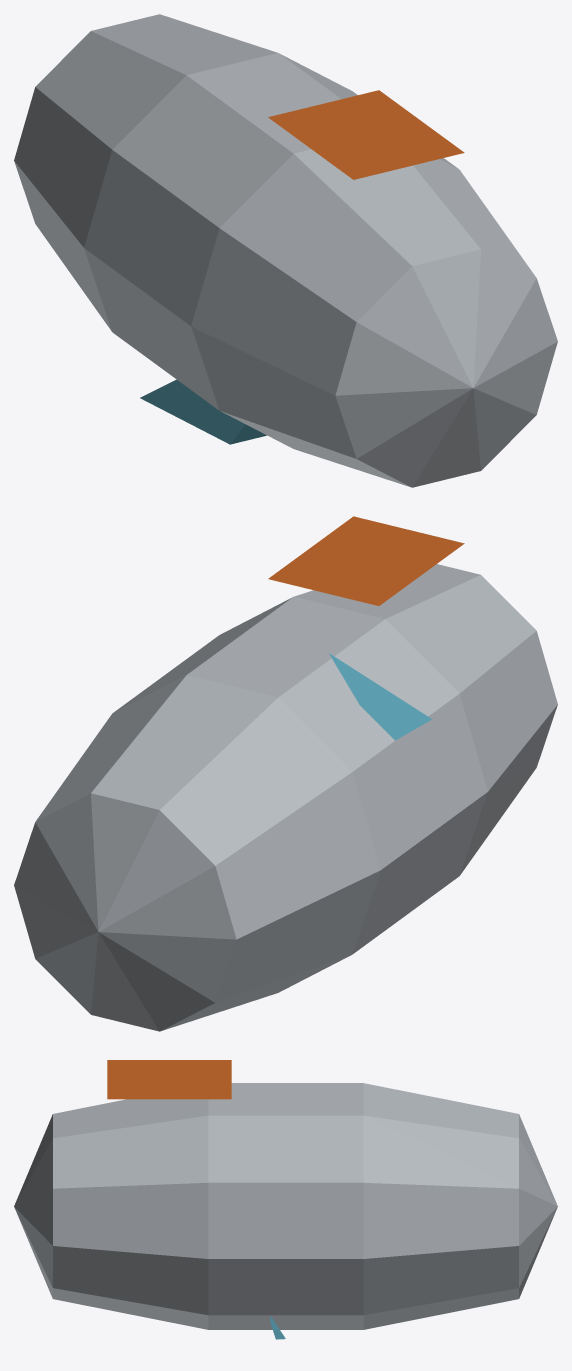
The model's file is mod-augment-capsule.lod.glb.
3 renders of one model, top to bottom at view 1: azimuth 30°, elevation 25°; view 2: azimuth 150°, elevation 25°; view 3: azimuth 270°, elevation 25°, orthographic. The views are drawn at different scales.
Visible parts, largest first — view 1: m; view 2: m; view 3: m.
Part boxes in pixels (left/top/right/bottom): m: left=14, top=14, right=557, bottom=487; m: left=14, top=516, right=557, bottom=1031; m: left=14, top=1060, right=557, bottom=1339.
Bounding box in the file's own units: 0.0277 × 0.0316 × 0.0605.
